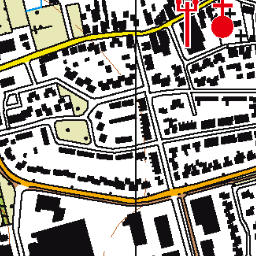church: (208, 1, 238, 41)
